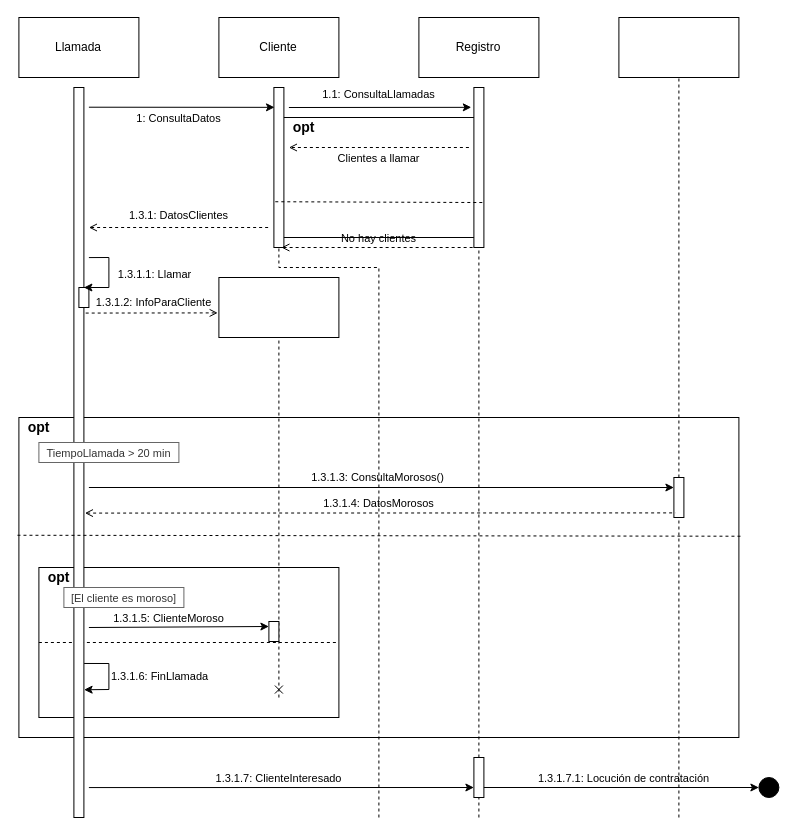
Image size: 797x836. Some labels were removed from this diagram. The shapes that lost their labels are listed below. From the top down, each one's centre as x and y in pixels, then its label:
point 678,47: Reg-morosos
point 278,307: Telefonista
